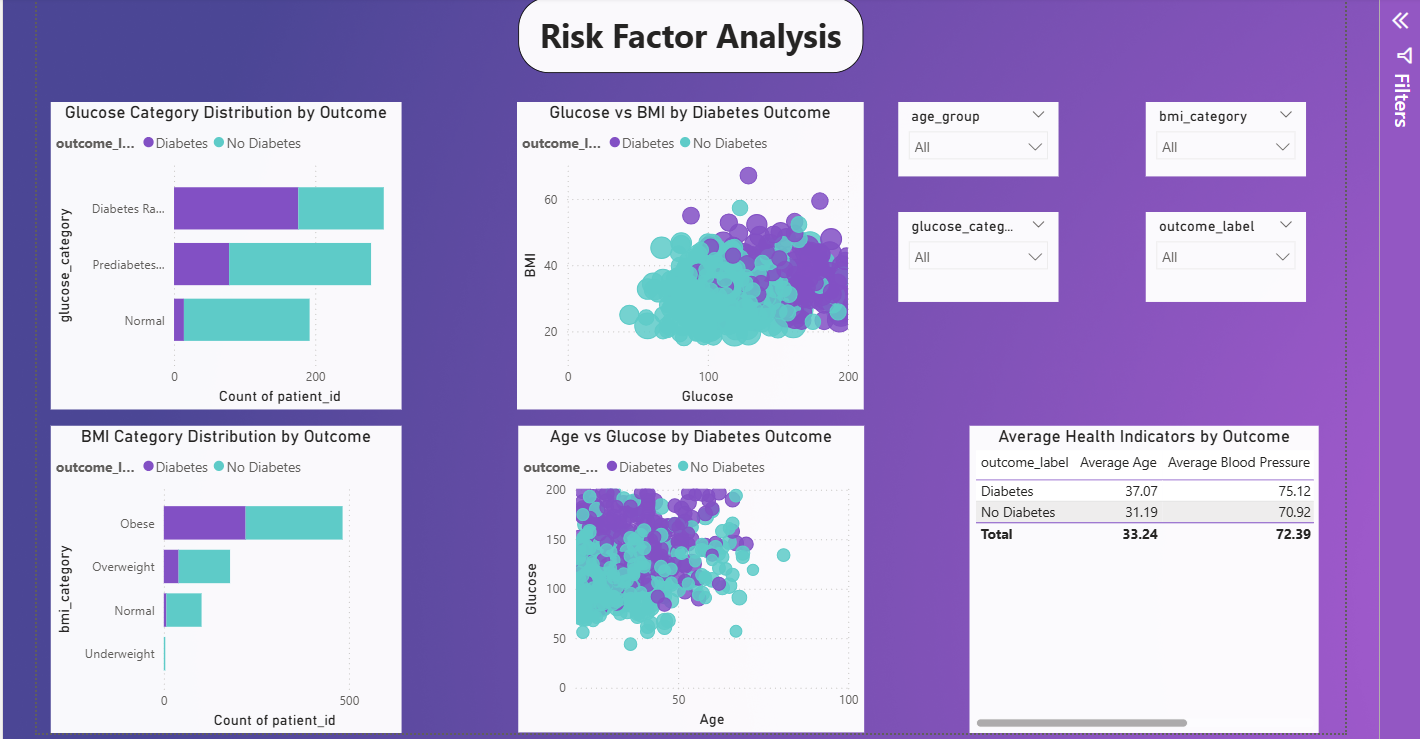

Layout of this report page (visuals, bound fields, positions):
{"tool":"powerbi","page":{"name":"Risk Factor Analysis","canvas":[1280,720],"ordinal":1},"visuals":[{"type":"textbox","box":[470.7,0,337.6,74.1],"z":0},{"type":"barChart","title":"Glucose Category Distribution by Outcome","fields":{"Category":["fact_patients.glucose_category"],"Y":["CountNonNull(fact_patients.patient_id)"],"Series":["fact_patients.outcome_label"]},"box":[13.7,102.9,343.1,300.5],"z":1},{"type":"barChart","title":"BMI Category Distribution by Outcome","fields":{"Category":["fact_patients.bmi_category"],"Y":["Count(fact_patients.patient_id)"],"Series":["fact_patients.outcome_label"]},"box":[13.7,419.9,343.1,300.5],"z":2},{"type":"scatterChart","title":"Glucose vs BMI by Diabetes Outcome","fields":{"X":["fact_patients.Glucose"],"Y":["fact_patients.BMI"],"Series":["fact_patients.outcome_label"],"Size":["Avg(fact_patients.Age)"]},"box":[469.3,102.9,338.9,300.5],"z":3},{"type":"scatterChart","title":"Age vs Glucose by Diabetes Outcome","fields":{"Y":["fact_patients.Glucose"],"Series":["fact_patients.outcome_label"],"Size":["Sum(fact_patients.BMI)"],"X":["fact_patients.Age"]},"box":[471,420,338,300],"z":4},{"type":"tableEx","title":"Average Health Indicators by Outcome","fields":{"Values":["fact_patients.outcome_label","fact_patients.Average Age","fact_patients.Average Blood Pressure","fact_patients.Average BMI","fact_patients.Average Glucose"]},"box":[912.5,419.9,341.7,300.5],"z":5},{"type":"slicer","fields":{"Values":["fact_patients.age_group"]},"box":[842.5,102.9,156.4,72.7],"z":6},{"type":"slicer","fields":{"Values":["fact_patients.bmi_category"]},"box":[1084.1,102.9,156.4,72.7],"z":7},{"type":"slicer","fields":{"Values":["fact_patients.glucose_category"]},"box":[842.5,209.9,156.4,87.8],"z":8},{"type":"slicer","fields":{"Values":["fact_patients.outcome_label"]},"box":[1084.1,209.9,156.4,87.8],"z":9}]}

Visuals, with their boxes in screenshot pixels (x1, y1, x2, y2):
textbox: x1=514 y1=0 x2=856 y2=71
"Glucose Category Distribution by Outcome" barChart: x1=51 y1=101 x2=398 y2=405
"BMI Category Distribution by Outcome" barChart: x1=51 y1=422 x2=398 y2=726
"Glucose vs BMI by Diabetes Outcome" scatterChart: x1=512 y1=101 x2=856 y2=405
"Age vs Glucose by Diabetes Outcome" scatterChart: x1=514 y1=422 x2=856 y2=726
"Average Health Indicators by Outcome" tableEx: x1=961 y1=422 x2=1307 y2=726
slicer - fact_patients.age_group: x1=890 y1=101 x2=1049 y2=174
slicer - fact_patients.bmi_category: x1=1135 y1=101 x2=1294 y2=174
slicer - fact_patients.glucose_category: x1=890 y1=209 x2=1049 y2=298
slicer - fact_patients.outcome_label: x1=1135 y1=209 x2=1294 y2=298
